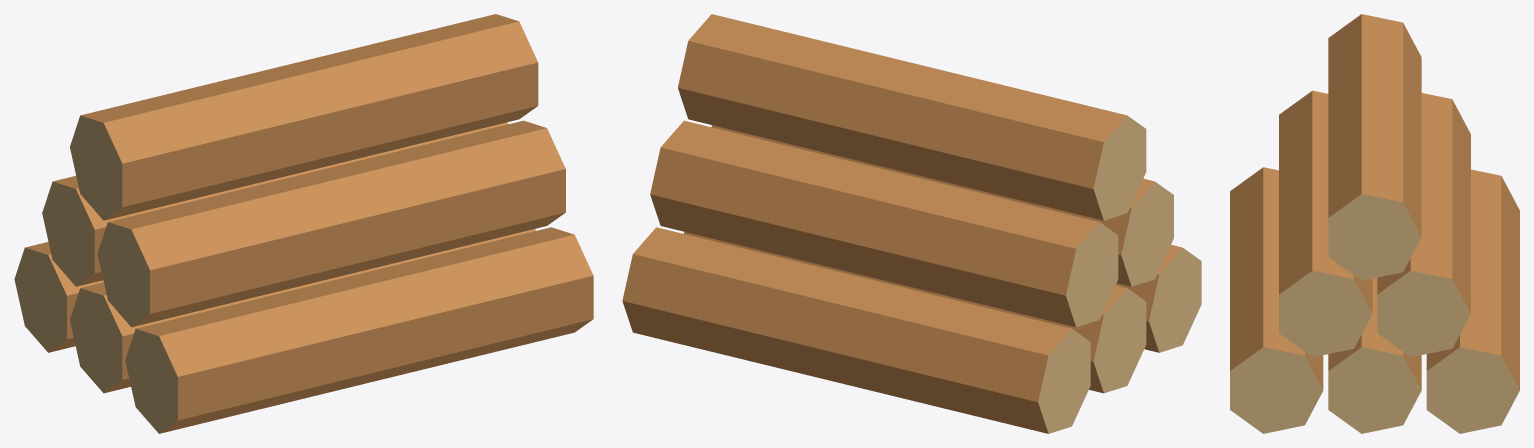
Rendered from prop_logs_m.fbx.
3 views of the same model, side by side, from view 1: azimuth 30°, elevation 25°; view 2: azimuth 150°, elevation 25°; view 3: azimuth 270°, elevation 25° (orthographic). The views are drawn at different scales.
Visible parts, largest first — view 1: prop_logs_m; view 2: prop_logs_m; view 3: prop_logs_m.
Boxes of the visible parts, x1,y1,x2,y2 form: prop_logs_m: (14,14,593,433); prop_logs_m: (622,14,1201,433); prop_logs_m: (1230,14,1519,433).
Bounding box in the file's own units: 0.312 × 0.194 × 0.2124.
